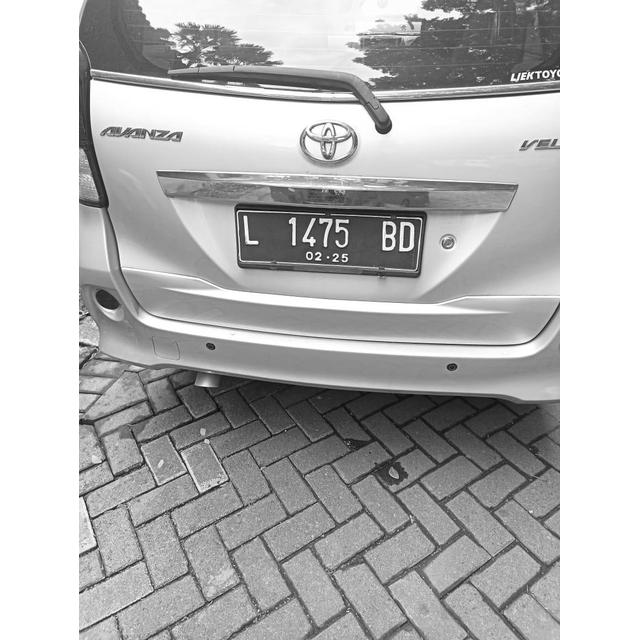license: (240, 212, 418, 264)
